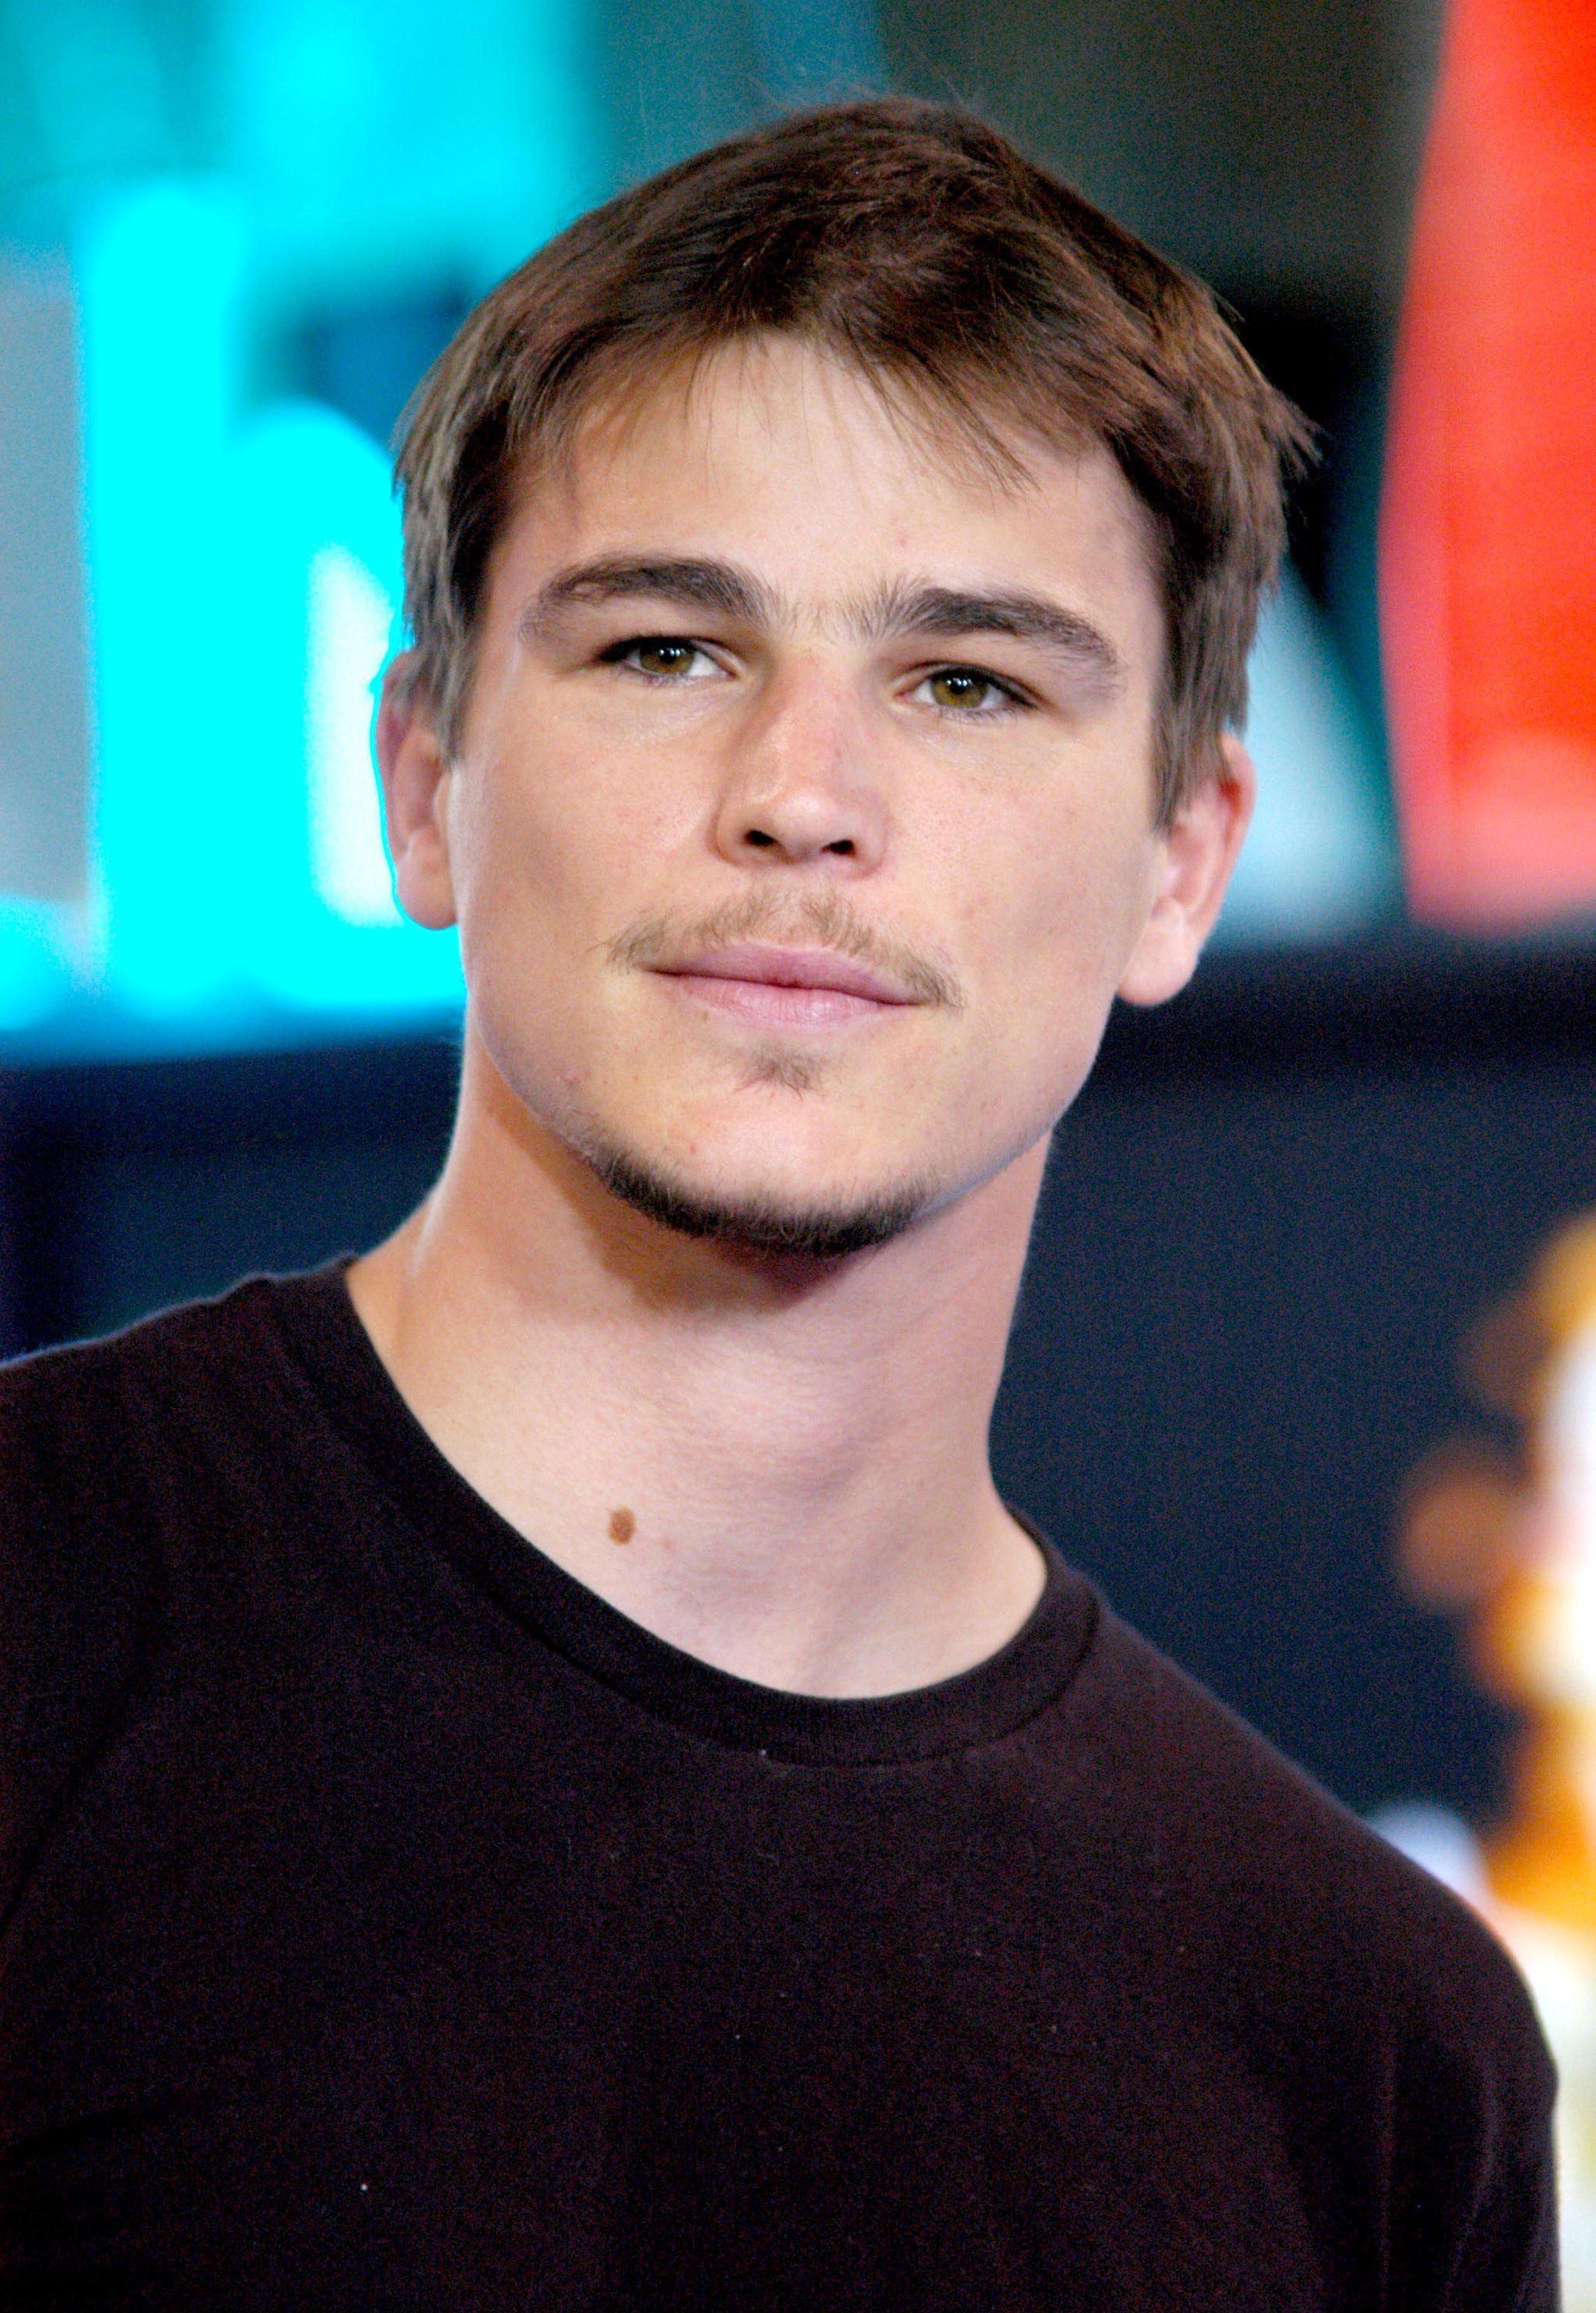Sober: (527, 406, 1109, 1192)
